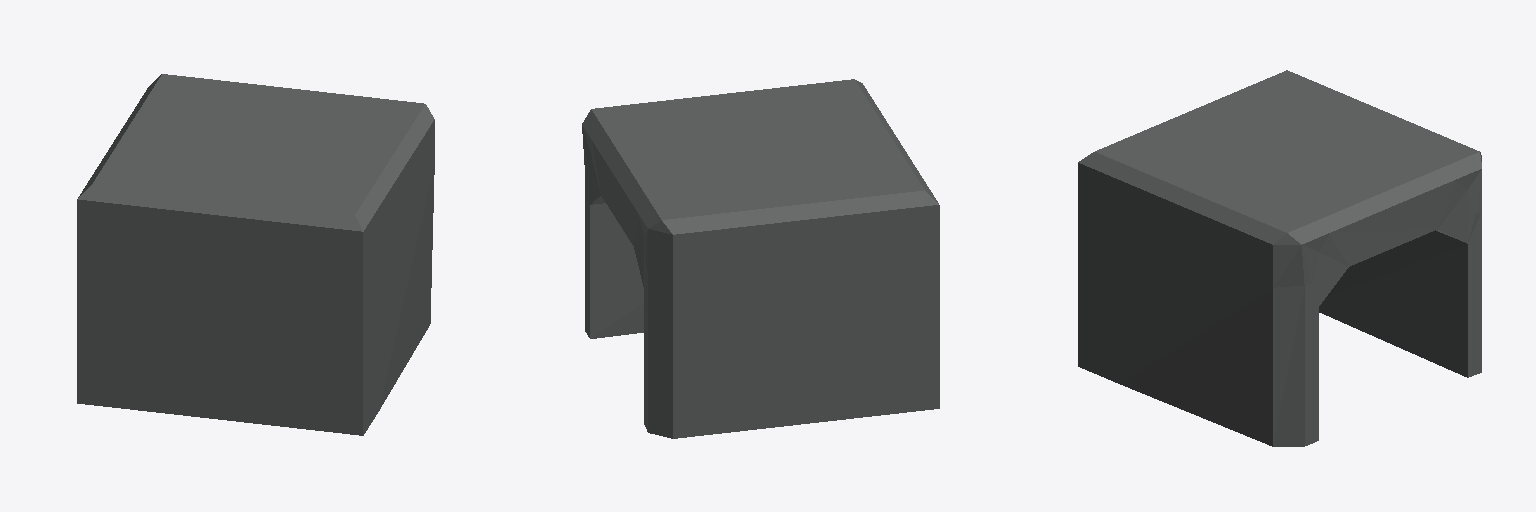
The model's file is EnemySpawn1.obj.
3 views of the same model, side by side, from view 1: azimuth 30°, elevation 25°; view 2: azimuth 150°, elevation 25°; view 3: azimuth 270°, elevation 25° (orthographic).
Visible parts, largest first — view 1: EnemySpawn1; view 2: EnemySpawn1; view 3: EnemySpawn1.
Boxes of the visible parts, box(x1,y1,x2,y2) form: EnemySpawn1: box(77, 74, 434, 435); EnemySpawn1: box(582, 79, 939, 438); EnemySpawn1: box(1078, 70, 1481, 446).
Size of the model in its own units: 8.19 by 4.8 by 8.19.